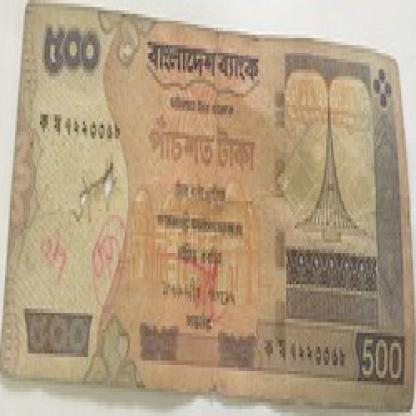500 taka: (33, 14, 110, 90), (358, 319, 409, 388)
currency: (0, 3, 415, 415)
